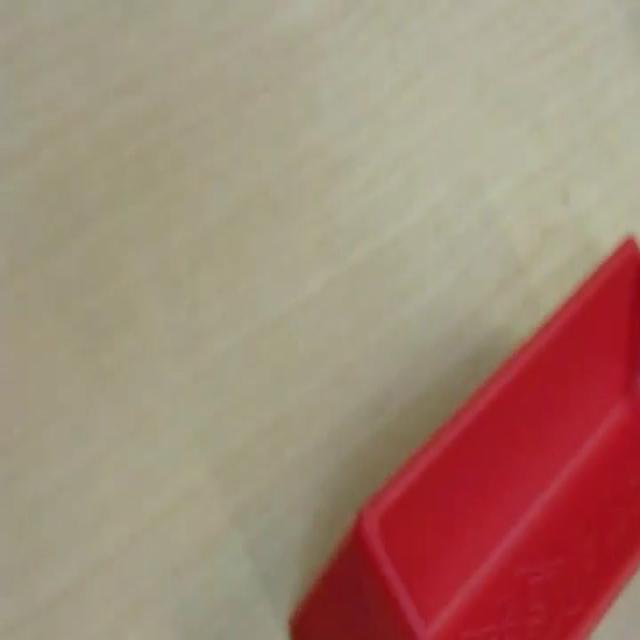red_block: (286, 232, 638, 637)
